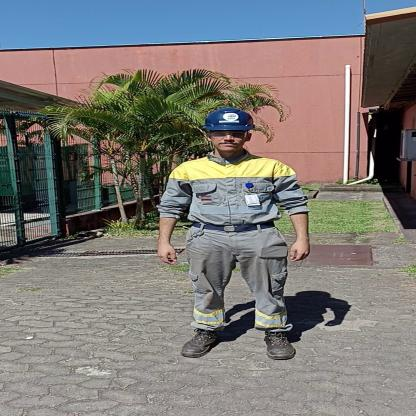Capacete: (199, 106, 259, 132)
